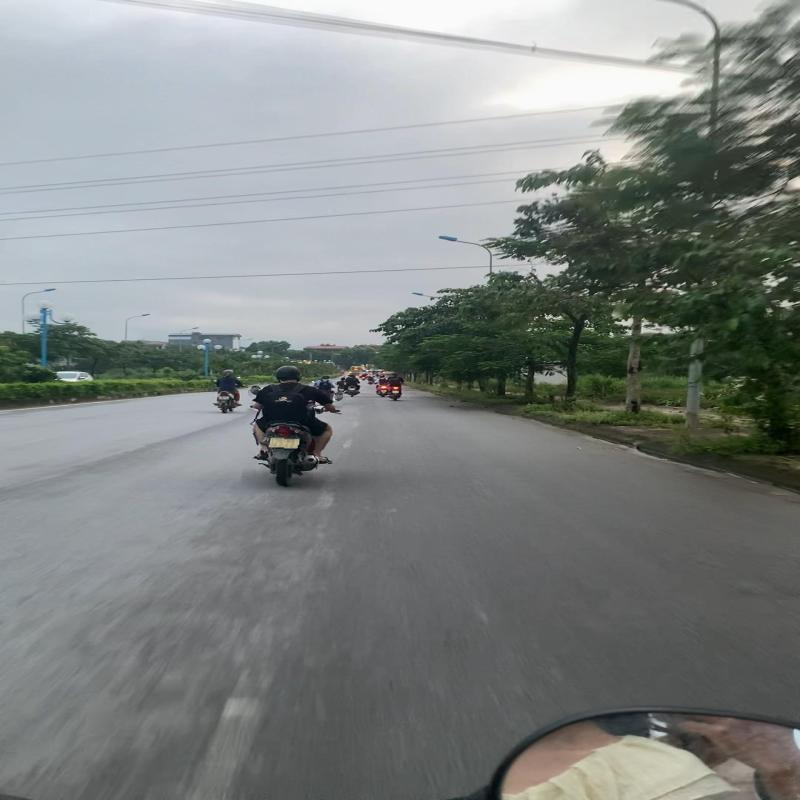helmet: (273, 365, 305, 383)
licenseplate: (266, 438, 301, 452)
motorcyclist: (243, 364, 343, 490)
